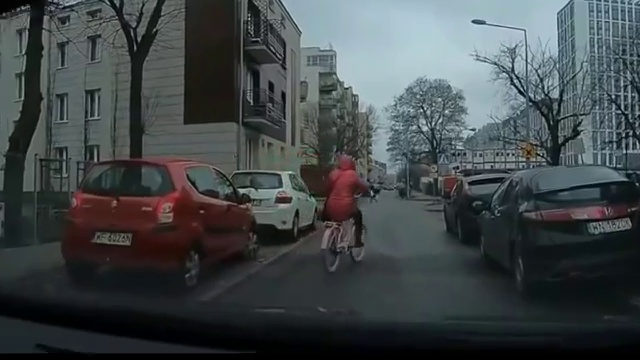cyclist_back: (319, 151, 374, 274)
